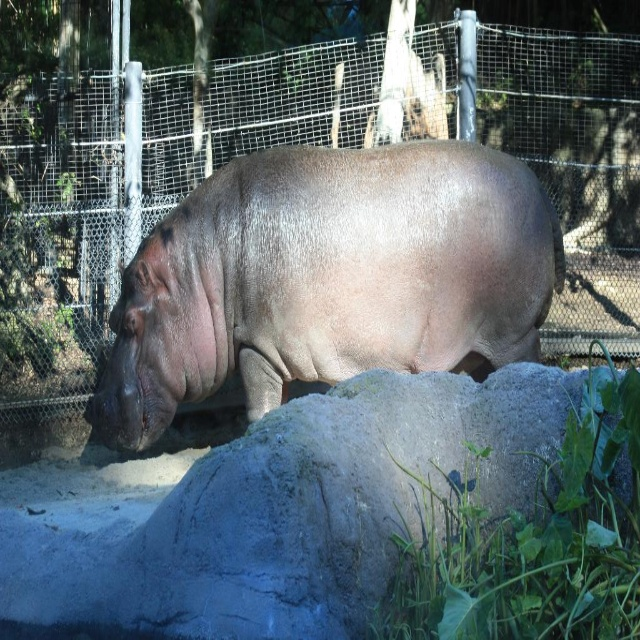Hippopotamus: (92, 139, 566, 455)
